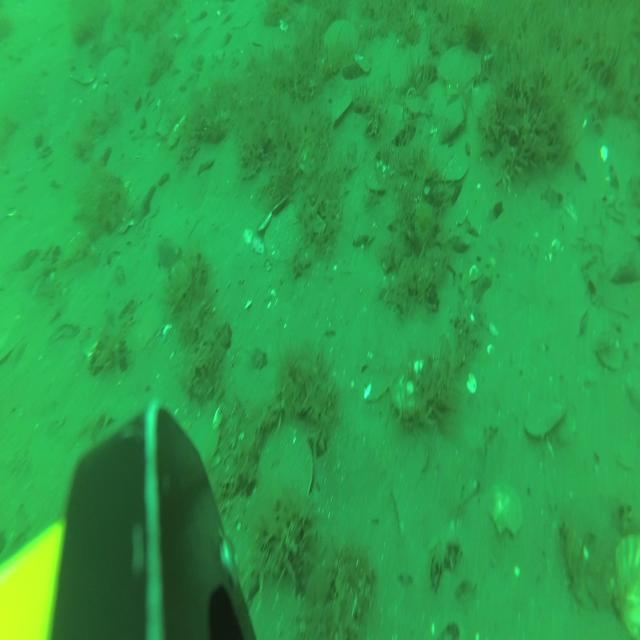scallop: (258, 422, 316, 514), (610, 524, 640, 640), (262, 195, 306, 268), (435, 40, 484, 96), (485, 475, 526, 541), (188, 411, 223, 473), (323, 16, 362, 61), (96, 44, 130, 89)
